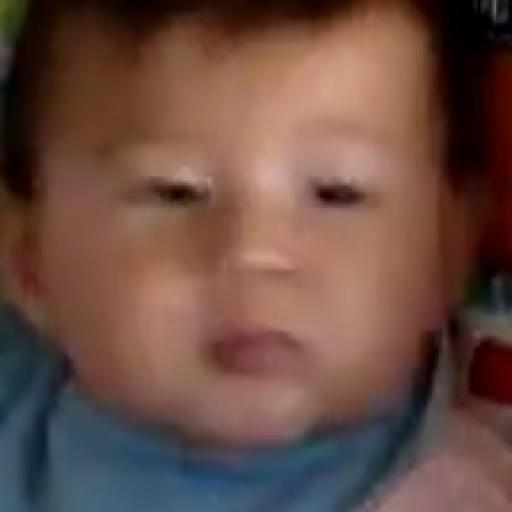Autism: (22, 0, 512, 494)
